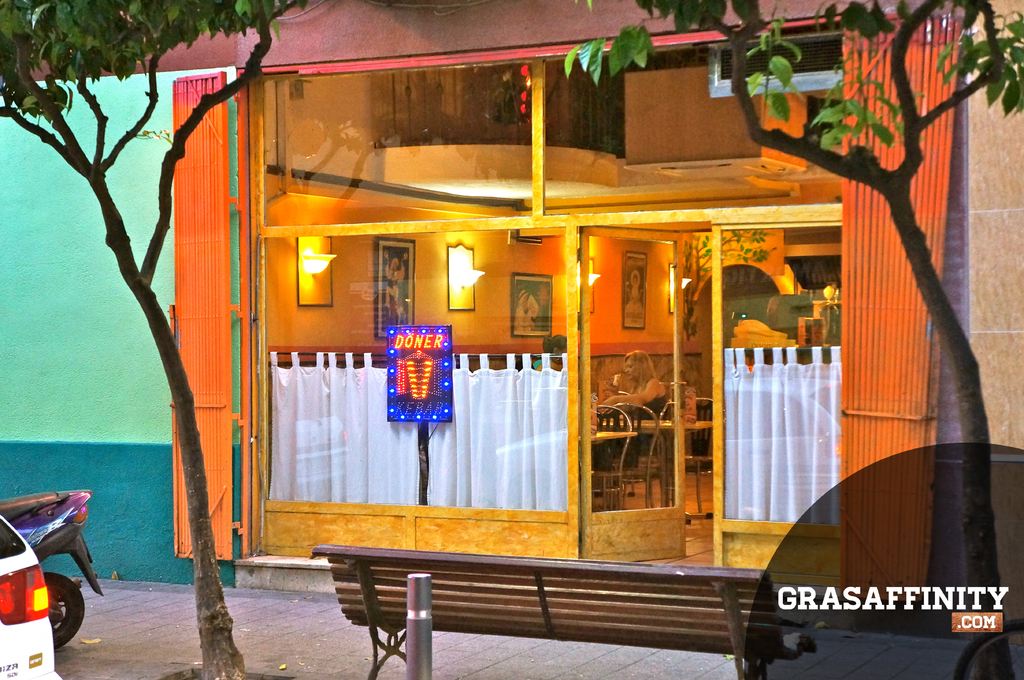Car: (0, 512, 67, 679)
